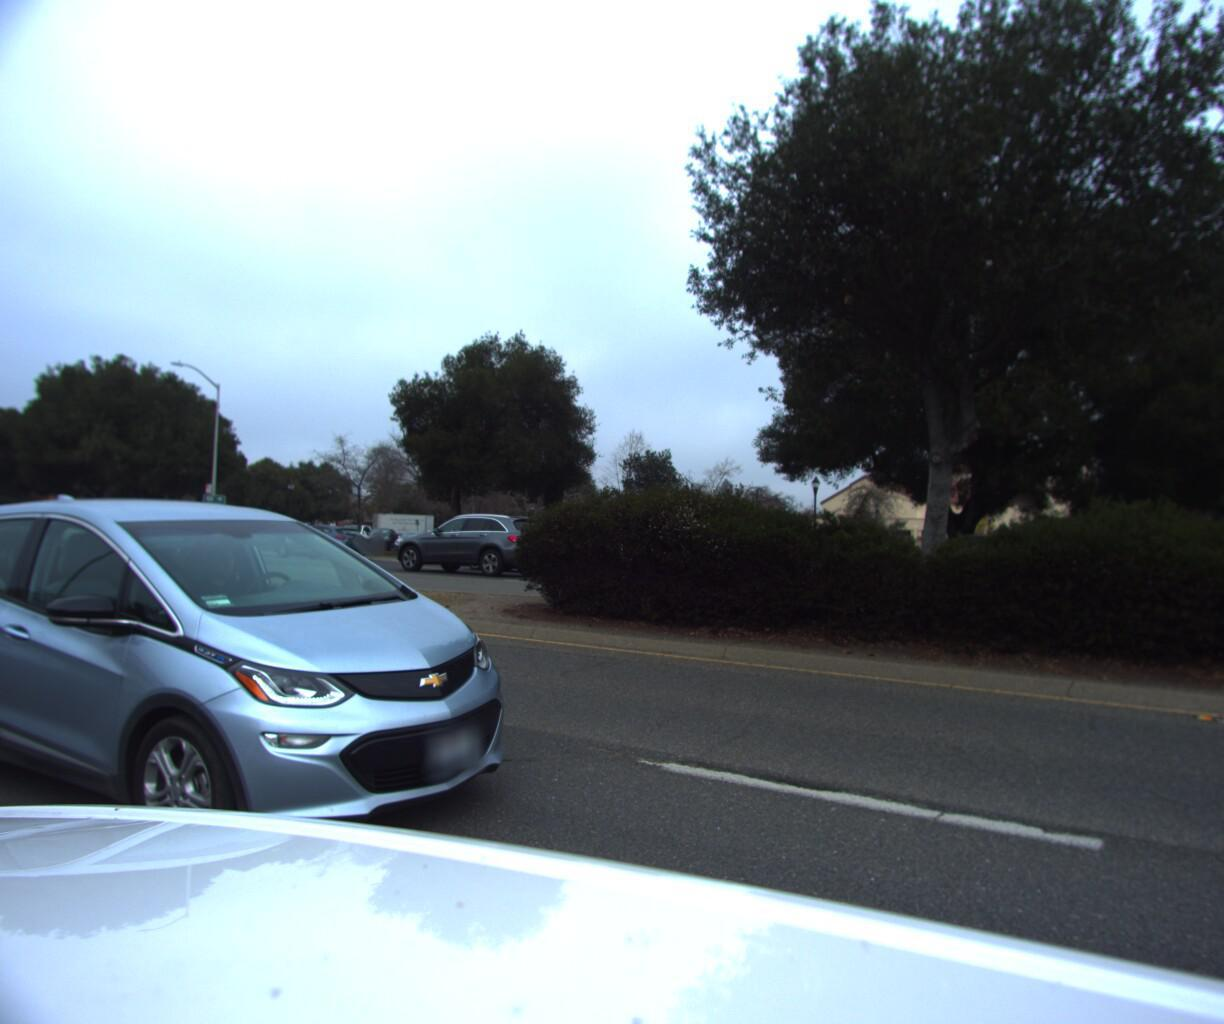car: (0, 501, 575, 930), (859, 526, 1062, 597), (390, 513, 556, 581), (259, 524, 370, 564), (0, 514, 32, 545)
